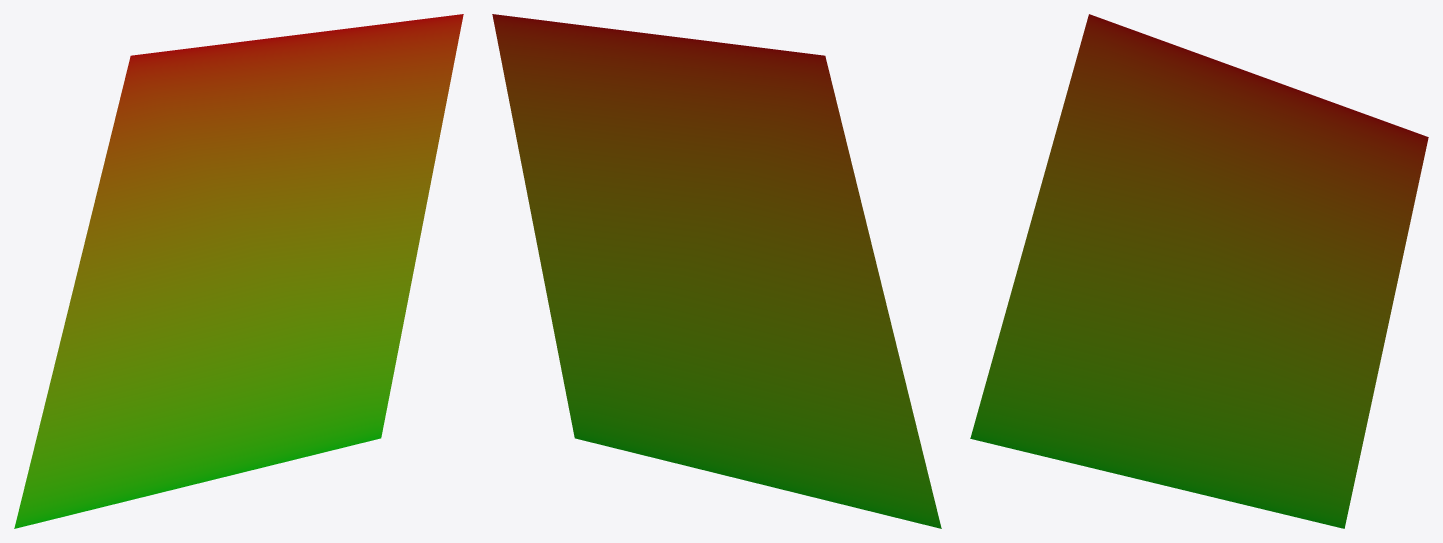
The model's file is Blackberry_LOD4_Var7_vkmofctha.fbx.
3 views of the same model, side by side, from view 1: azimuth 30°, elevation 25°; view 2: azimuth 150°, elevation 25°; view 3: azimuth 330°, elevation 25° (orthographic).
Parts seen in each view (by area): view 1: _h8hz_Var7_LOD4; view 2: _h8hz_Var7_LOD4; view 3: _h8hz_Var7_LOD4.
Boxes of the visible parts, <box> form: _h8hz_Var7_LOD4: <box>14,14,463,528</box>; _h8hz_Var7_LOD4: <box>492,14,941,528</box>; _h8hz_Var7_LOD4: <box>970,14,1428,528</box>.
Size of the model in its own units: 51.45 by 48.66 by 2.17e-06.
